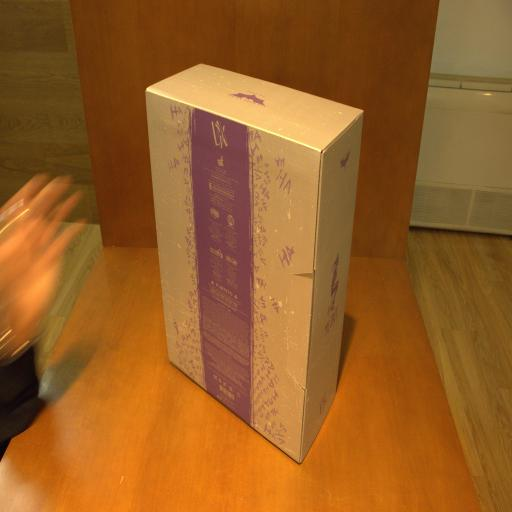Joker: (144, 60, 364, 461)
